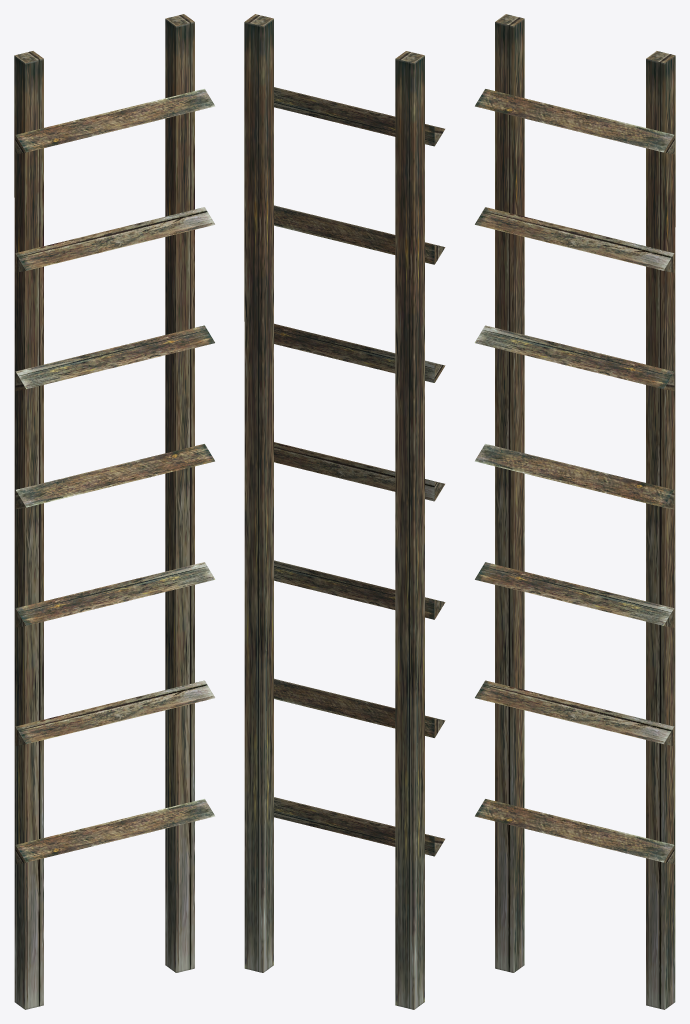
The model's file is stairs1.glb.
The picture shows the model from 3 angles, left to right: view 1: azimuth 30°, elevation 25°; view 2: azimuth 150°, elevation 25°; view 3: azimuth 330°, elevation 25°; orthographic projection.
Parts seen in each view (by area): view 1: stairs1-col; view 2: stairs1-col; view 3: stairs1-col.
Part boxes in pixels (x1,y1,x2,y2): stairs1-col: (14, 14, 214, 1009); stairs1-col: (244, 14, 445, 1009); stairs1-col: (475, 14, 675, 1009).
Size of the model in its own units: 0.6692 by 3.2 by 0.1323.
Materials: 1 (1 with a texture image).
